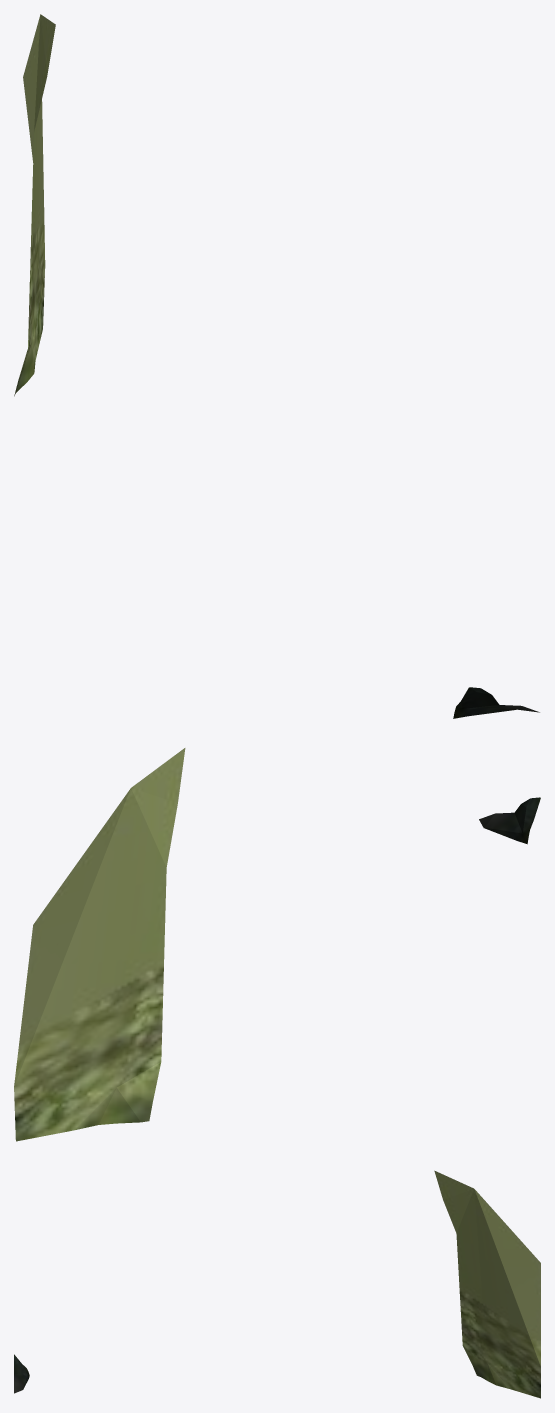
3 views of the same model, one above another, from view 1: azimuth 30°, elevation 25°; view 2: azimuth 150°, elevation 25°; view 3: azimuth 270°, elevation 25° (orthographic). The views are drawn at different scales.
Bounding box in the file's own units: 2.74 × 11.22 × 26.11.
Materials: 1 (1 with a texture image).
